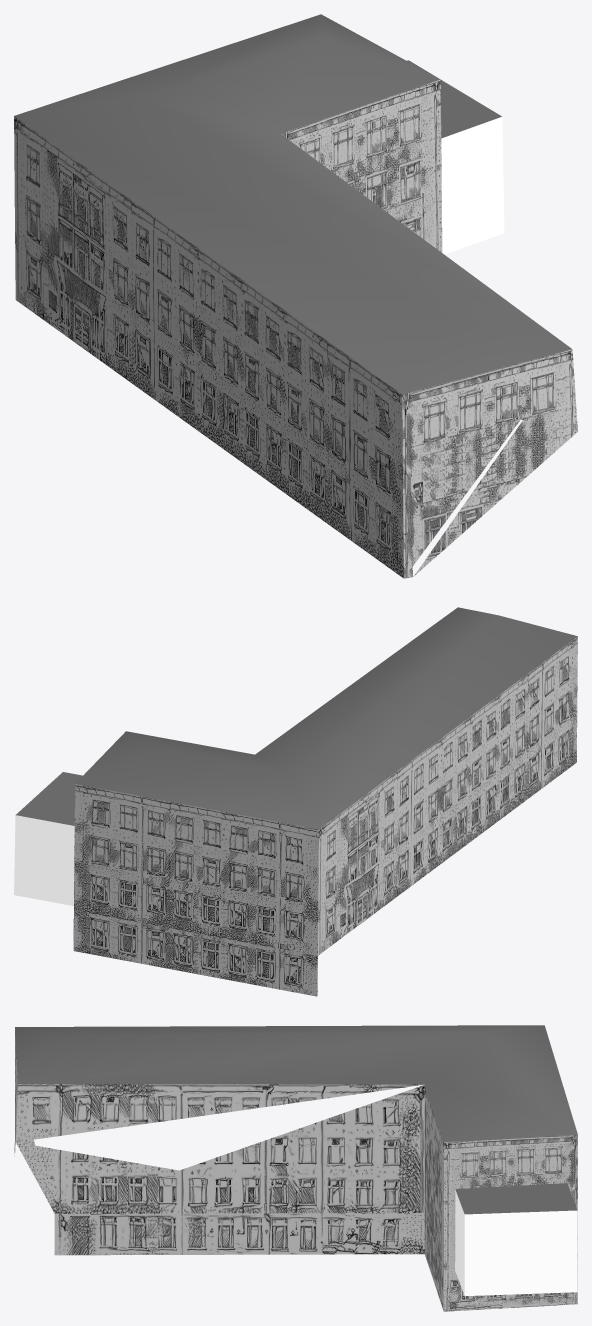
Rendered from Toepler-Bau.gltf.
3 renders of one model, top to bottom at view 1: azimuth 30°, elevation 25°; view 2: azimuth 150°, elevation 25°; view 3: azimuth 270°, elevation 25°, orthographic. The views are drawn at different scales.
Visible parts, largest first — view 1: Dach.1; view 2: Dach.1; view 3: Dach.1.
Part boxes in pixels (x1,y1,x2,y2): Dach.1: [14, 14, 577, 578]; Dach.1: [14, 607, 577, 996]; Dach.1: [14, 1025, 577, 1311].
Bounding box in the file's own units: 38.09 × 23.23 × 62.14.
Materials: 11 (9 with a texture image).
